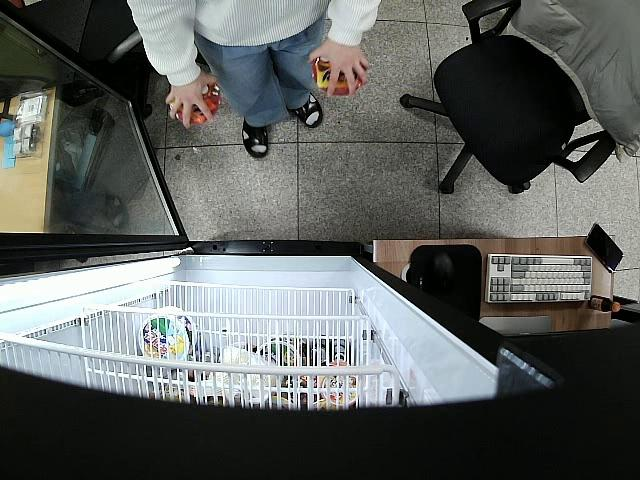00_hand: (305, 43, 368, 97), (165, 69, 219, 128)
05_nuguri_L: (313, 57, 366, 95), (173, 83, 221, 123)
